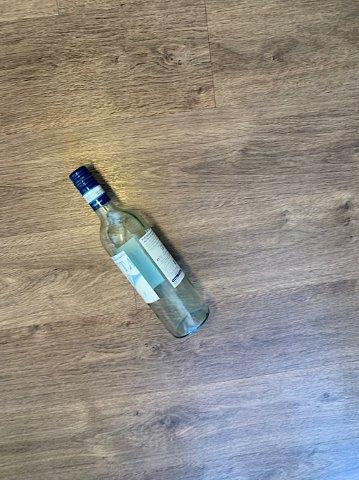botolkaca: (70, 166, 209, 339)
